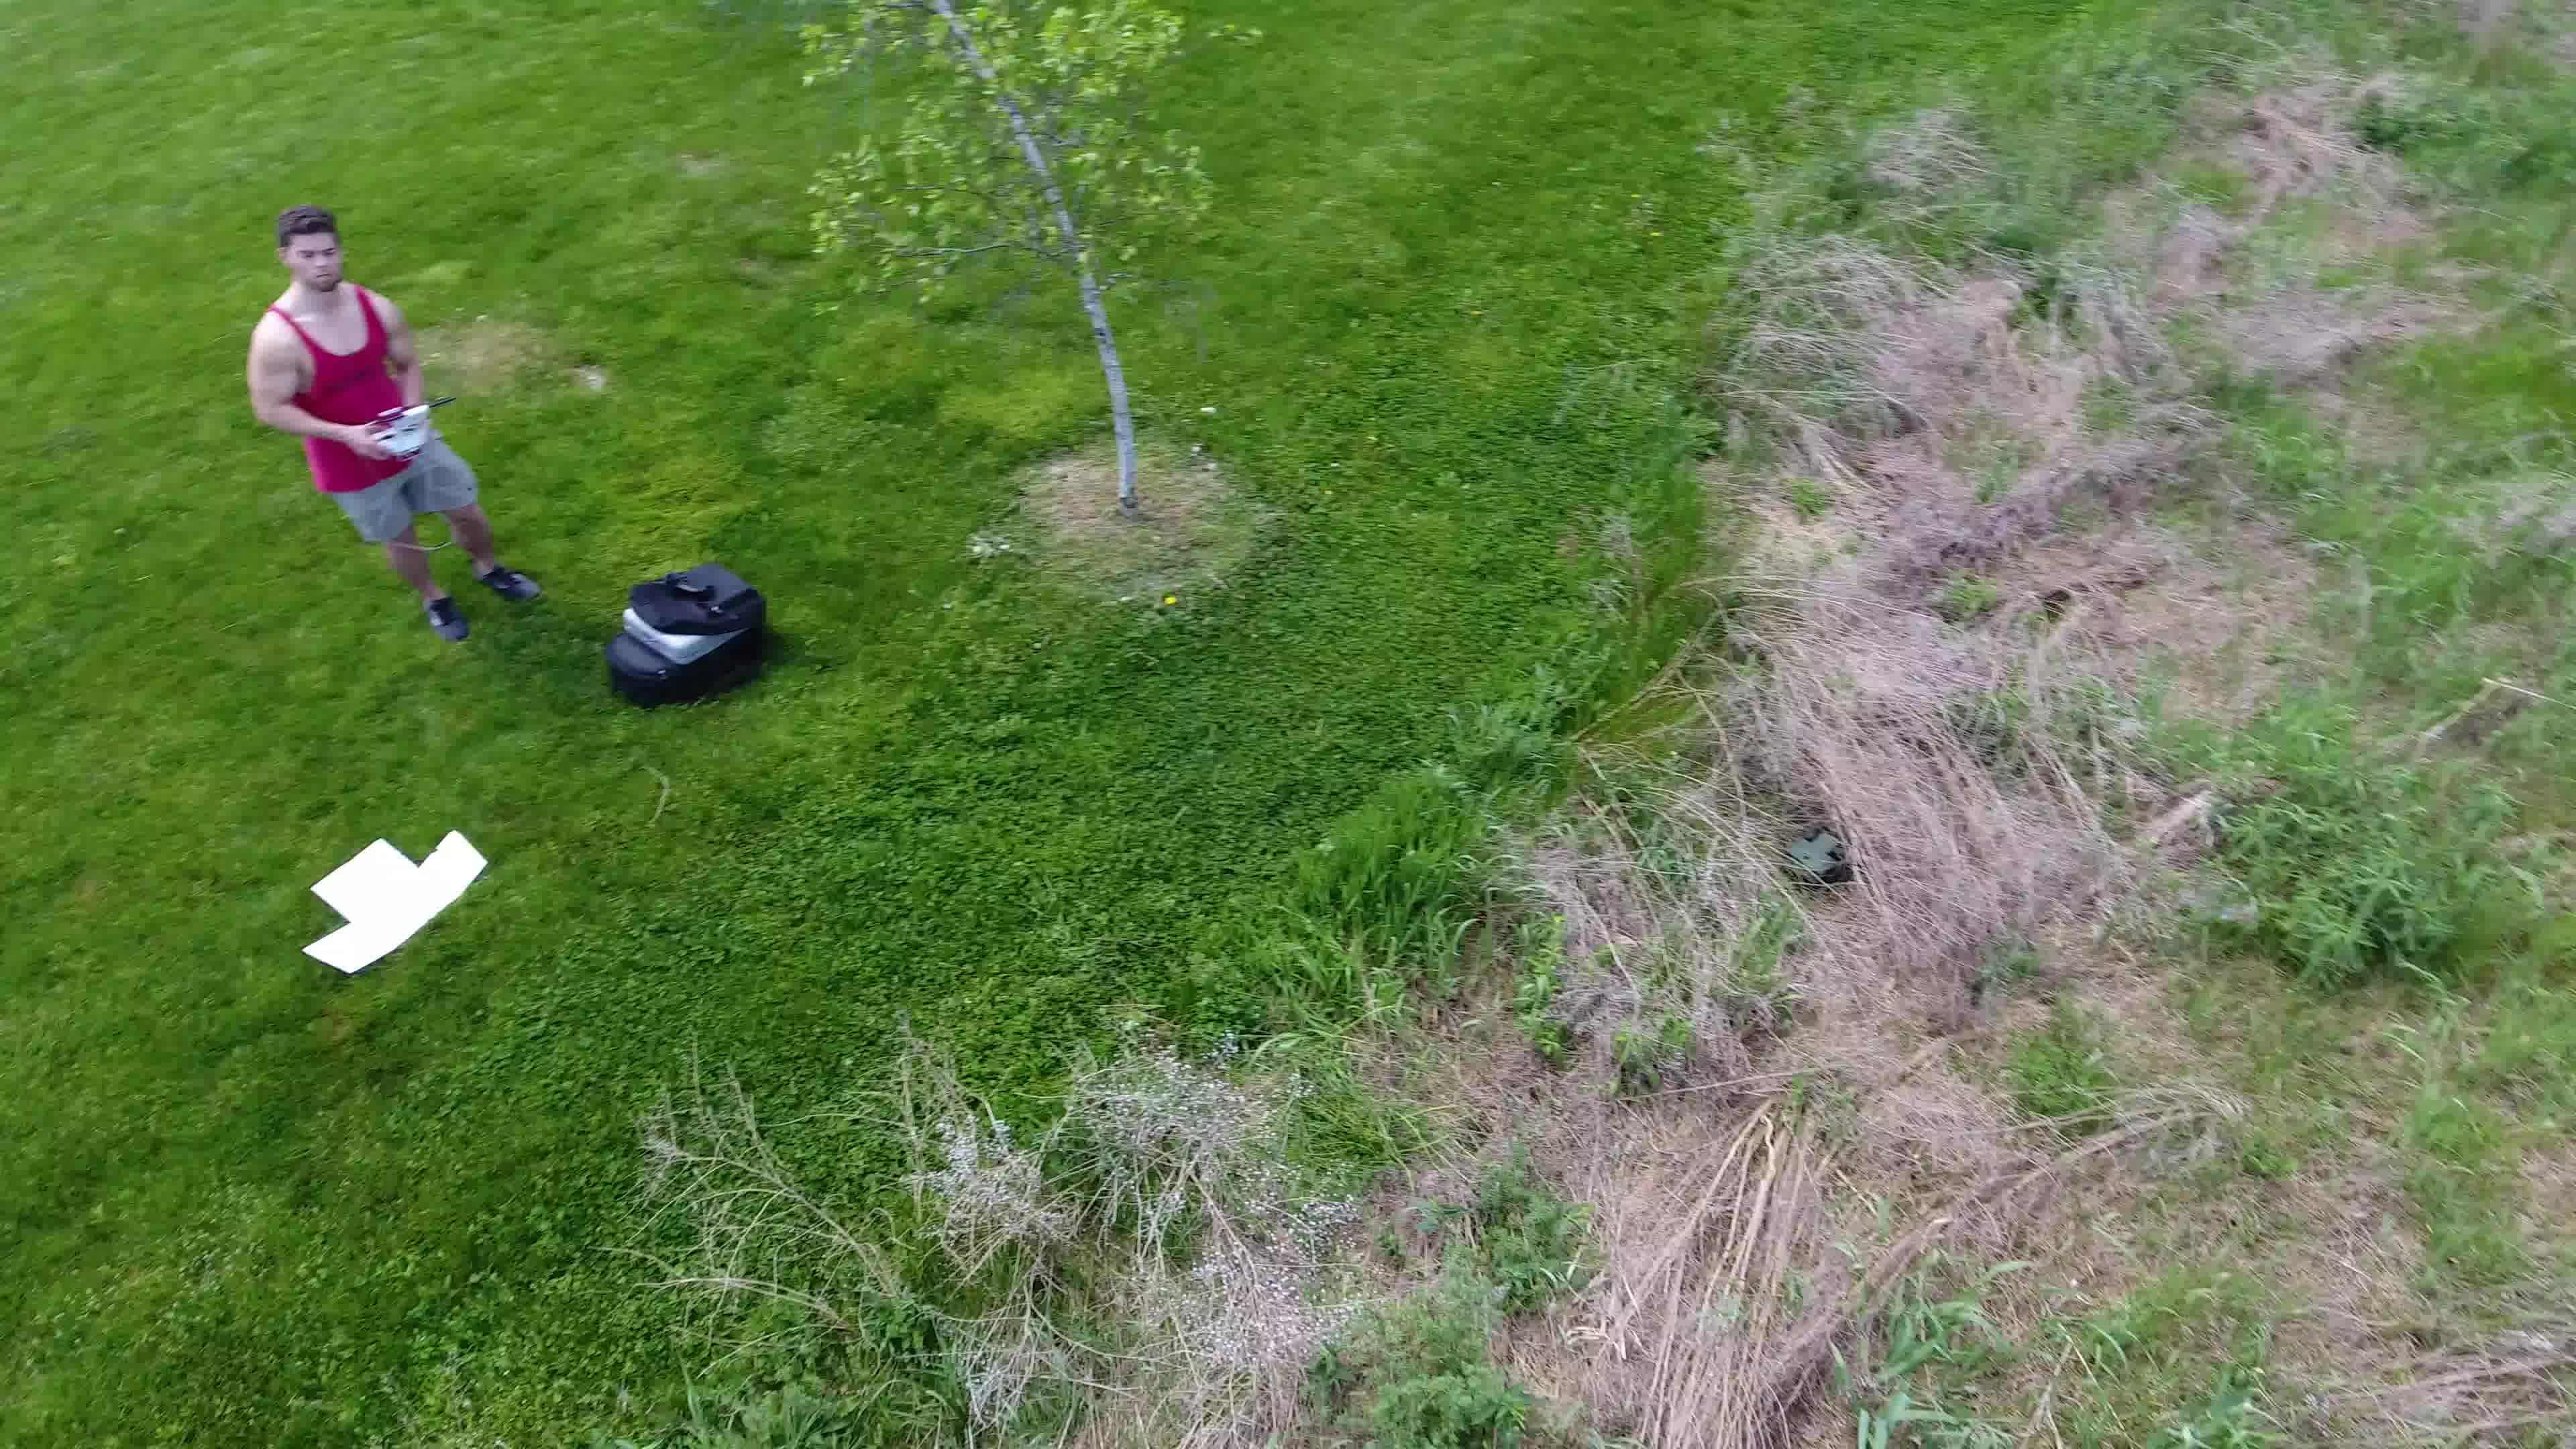transporter9: (1782, 826, 1847, 888)
